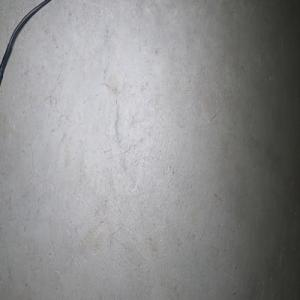Wire: (0, 0, 56, 88)
